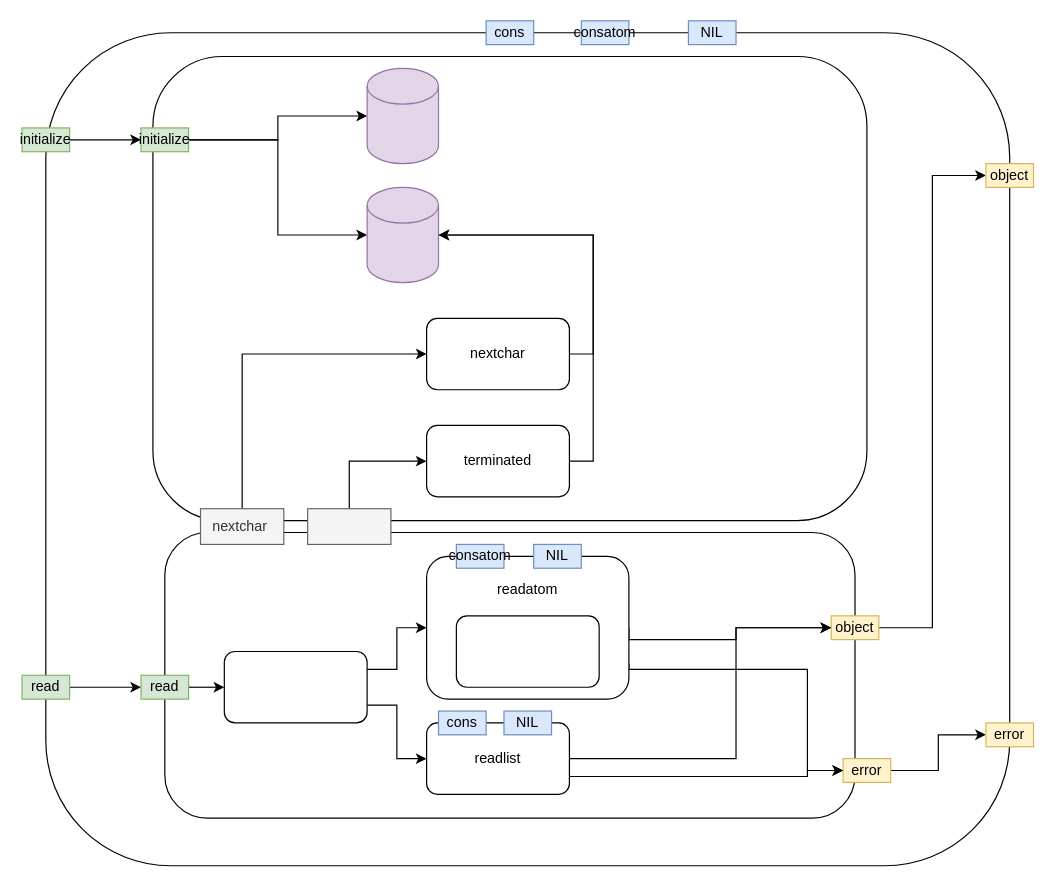
Image size: 1054x887. Some labels were removed from this diagram. The centre of each missing label's shape, as x and y in pixels:
finish: [527,651]
index: [402,234]
router: [295,686]
string: [402,115]
terminated?: [348,526]
